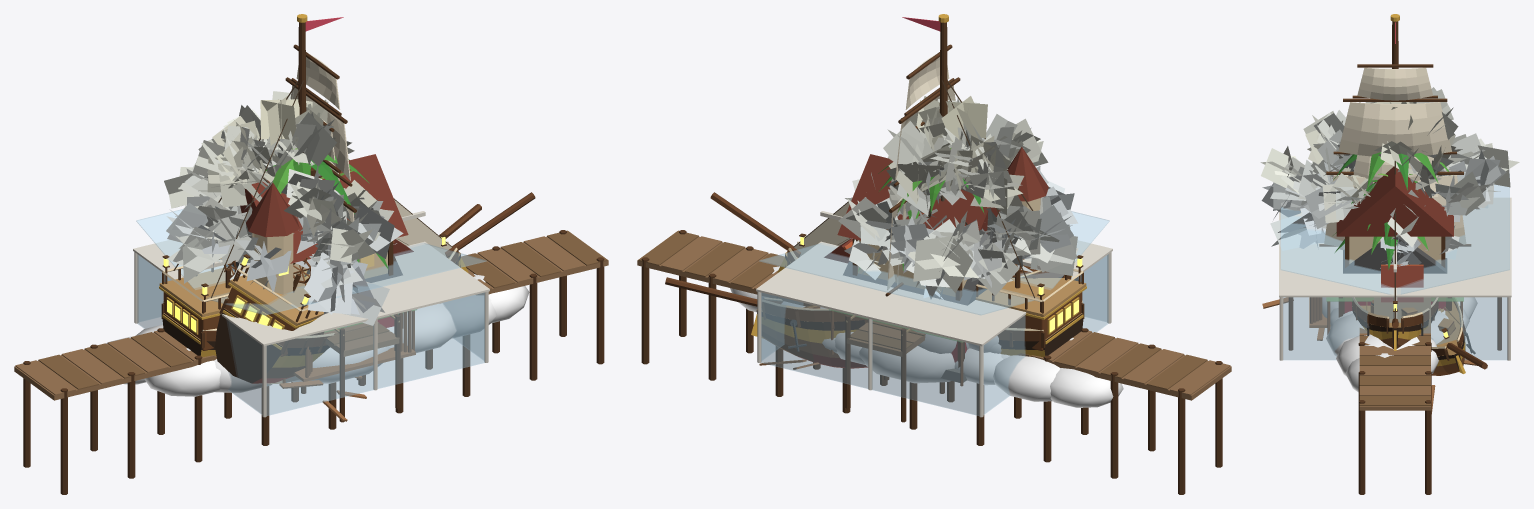
Rendered from models.glb.
3 views of the same model, side by side, from view 1: azimuth 30°, elevation 25°; view 2: azimuth 150°, elevation 25°; view 3: azimuth 270°, elevation 25° (orthographic). The views are drawn at different scales.
Visible parts, largest first — view 1: greenhouse, jungle_a, trader_pier, shipwreck, farmhouse_5, intro_ship, cloud_c, cloud_a, intro_mainsails, bridge, intro_foremast, palm_b; view 2: greenhouse, jungle_a, trader_pier, intro_ship, farmhouse_5, shipwreck, cloud_c, bridge, cloud_a, intro_mainsails, cloud_b, barn (+2 smaller); view 3: greenhouse, jungle_a, intro_mainsails, farmhouse_5, trader_pier, intro_ship, shipwreck, barn, cloud_c, cloud_a, jungle_b, intro_foremast (+5 smaller).
Part boxes in pixels (left/top/right/bottom): greenhouse: left=133, top=209, right=489, bottom=417; jungle_a: left=164, top=91, right=403, bottom=326; trader_pier: left=14, top=230, right=608, bottom=494; shipwreck: left=215, top=204, right=481, bottom=421; farmhouse_5: left=237, top=154, right=415, bottom=384; intro_ship: left=159, top=14, right=535, bottom=357; cloud_c: left=106, top=274, right=529, bottom=384; cloud_a: left=144, top=295, right=496, bottom=396; intro_mainsails: left=285, top=44, right=356, bottom=222; bridge: left=301, top=315, right=400, bottom=422; intro_foremast: left=322, top=119, right=452, bottom=256; palm_b: left=266, top=148, right=369, bottom=213; greenhouse: left=756, top=211, right=1112, bottom=417; jungle_a: left=838, top=96, right=1078, bottom=298; trader_pier: left=637, top=230, right=1231, bottom=494; intro_ship: left=710, top=14, right=1086, bottom=357; farmhouse_5: left=824, top=147, right=1048, bottom=382; shipwreck: left=665, top=224, right=1078, bottom=369; cloud_c: left=730, top=266, right=1123, bottom=407; bridge: left=845, top=315, right=944, bottom=422; cloud_a: left=835, top=332, right=1073, bottom=383; intro_mainsails: left=885, top=44, right=960, bottom=296; cloud_b: left=820, top=307, right=1003, bottom=385; barn: left=843, top=261, right=986, bottom=367; greenhouse: left=1279, top=173, right=1511, bottom=360; jungle_a: left=1260, top=87, right=1519, bottom=261; intro_mainsails: left=1319, top=64, right=1471, bottom=247; farmhouse_5: left=1309, top=166, right=1453, bottom=327; trader_pier: left=1358, top=326, right=1431, bottom=494; intro_ship: left=1352, top=14, right=1438, bottom=350; shipwreck: left=1262, top=212, right=1487, bottom=413; barn: left=1338, top=236, right=1451, bottom=317; cloud_c: left=1322, top=297, right=1469, bottom=392; cloud_a: left=1336, top=297, right=1477, bottom=376; jungle_b: left=1332, top=167, right=1463, bottom=268; intro_foremast: left=1339, top=155, right=1437, bottom=318.
Bounding box in the file's own units: 24 × 16.59 × 10.96.
